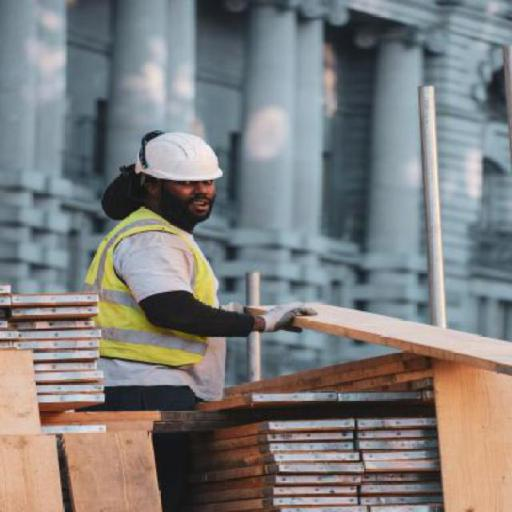hardhat: (126, 121, 230, 186)
person: (68, 114, 317, 404)
vest: (66, 206, 236, 376)
